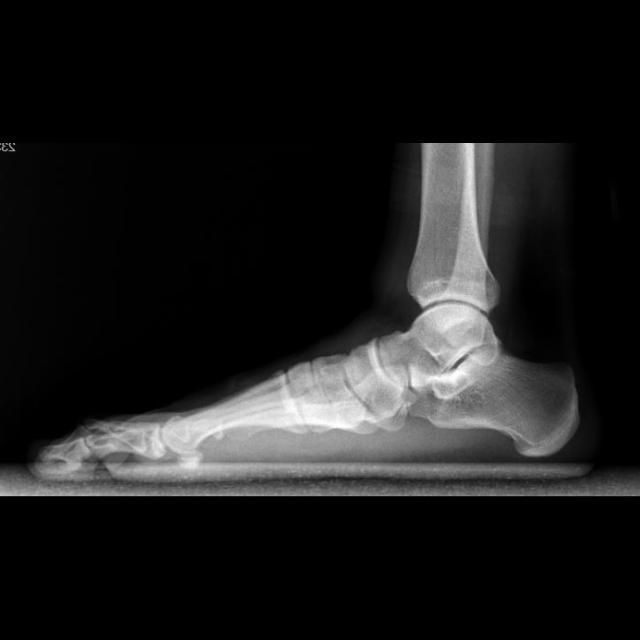a: (409, 346, 576, 456)
b: (343, 339, 404, 417)
c: (164, 371, 302, 455)
